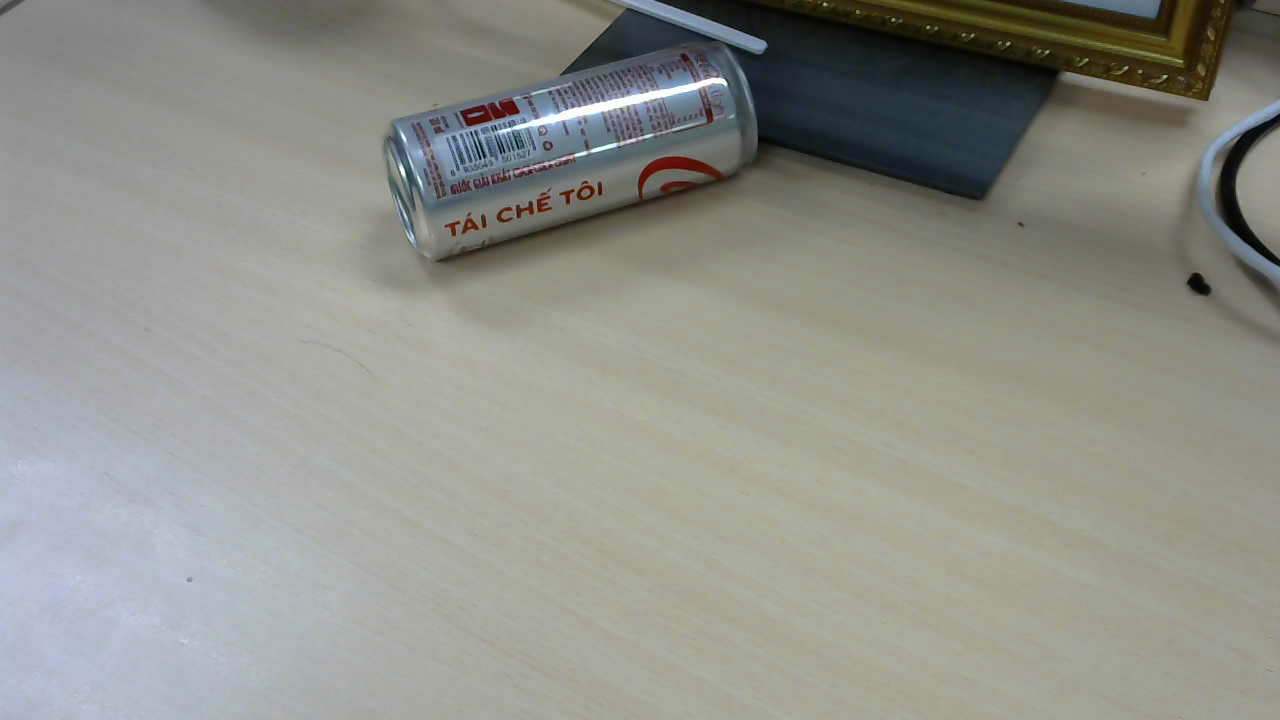Coca_Cola: (385, 40, 767, 271)
